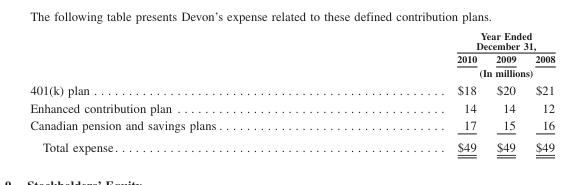table: (29, 29, 554, 153)
table column: (29, 29, 338, 153), (338, 29, 485, 153), (485, 29, 524, 153), (524, 29, 554, 153)
table column header: (29, 29, 554, 80)
table row: (29, 29, 554, 51), (29, 116, 554, 135), (29, 80, 554, 98), (29, 98, 554, 116), (29, 135, 554, 153), (29, 65, 554, 80), (29, 51, 554, 65)
table spanning cell: (338, 29, 554, 51), (338, 65, 554, 80)
